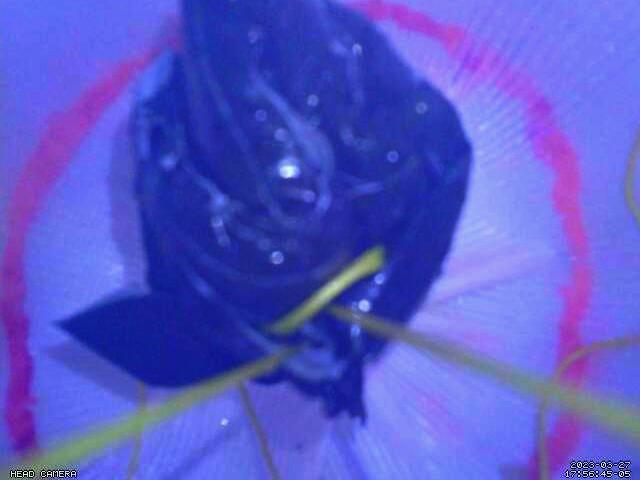head: (0, 0, 592, 480)
